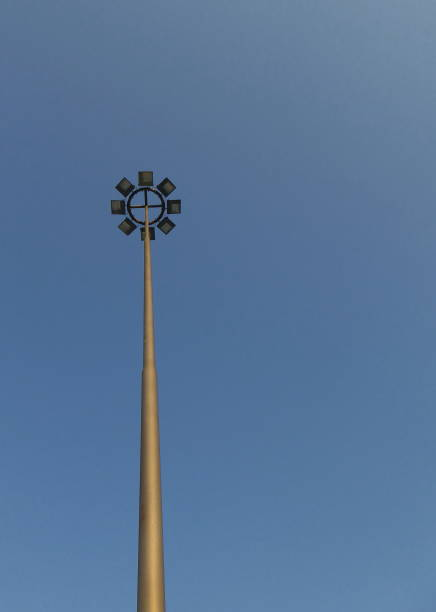light_pole: (134, 240, 166, 612)
